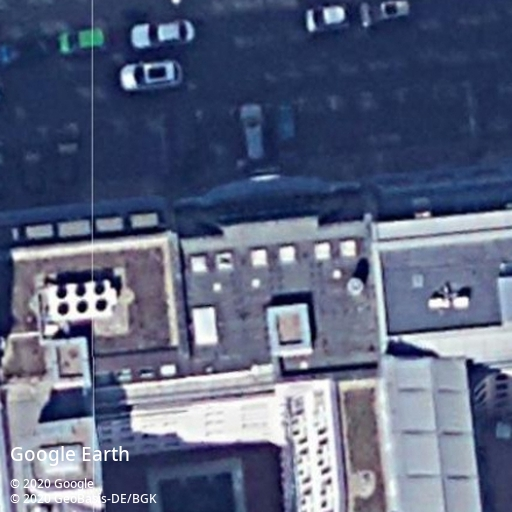Chiller: (45, 278, 119, 324)
